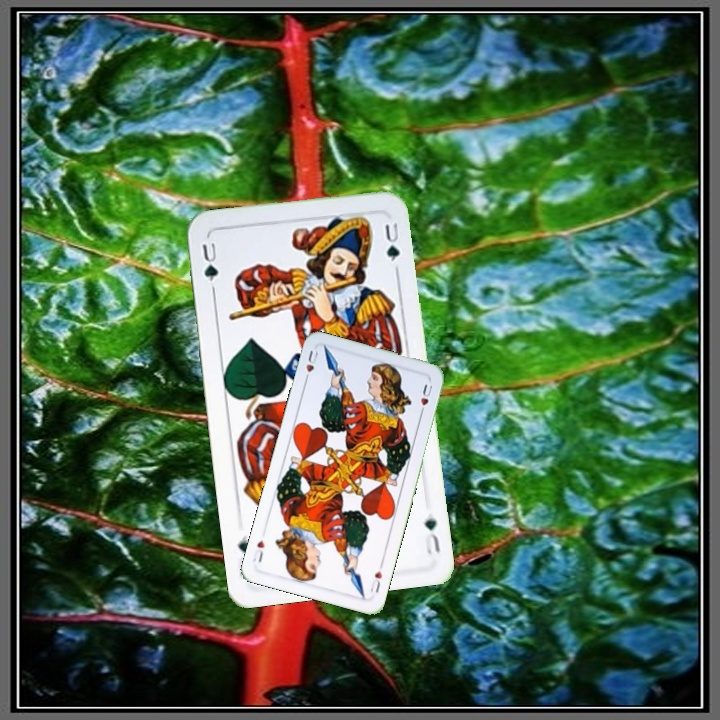GU: (198, 238, 221, 294), (420, 513, 442, 557)
HU: (301, 346, 321, 385), (366, 559, 385, 595)
